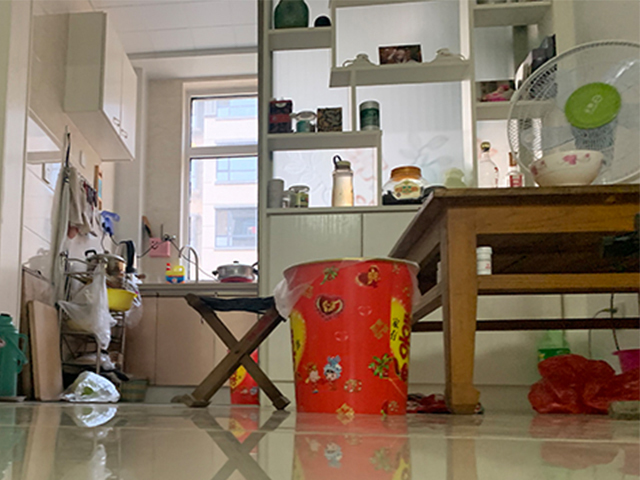cabinet: (251, 202, 440, 412), (125, 281, 256, 404)
stool: (180, 293, 292, 414)
table: (389, 182, 640, 416)
trashcan: (282, 257, 419, 417), (228, 345, 261, 406)
